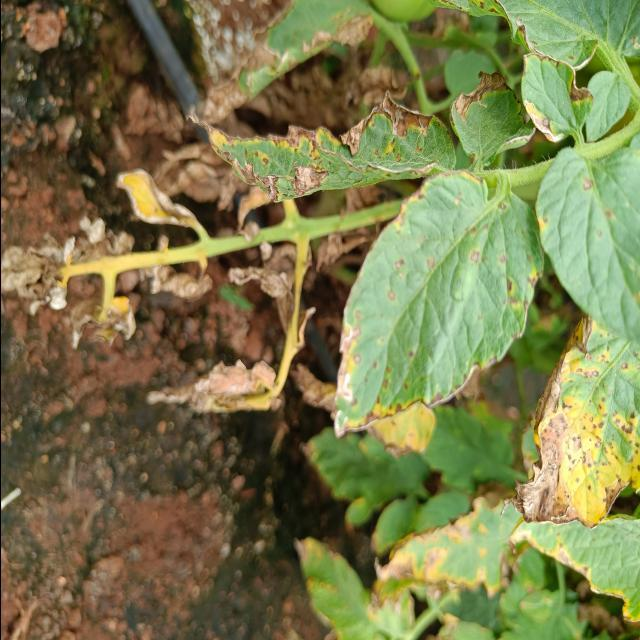Tomato mosaic virus leaf: (499, 312, 640, 534), (188, 86, 442, 207), (518, 47, 594, 143), (444, 66, 520, 158)
